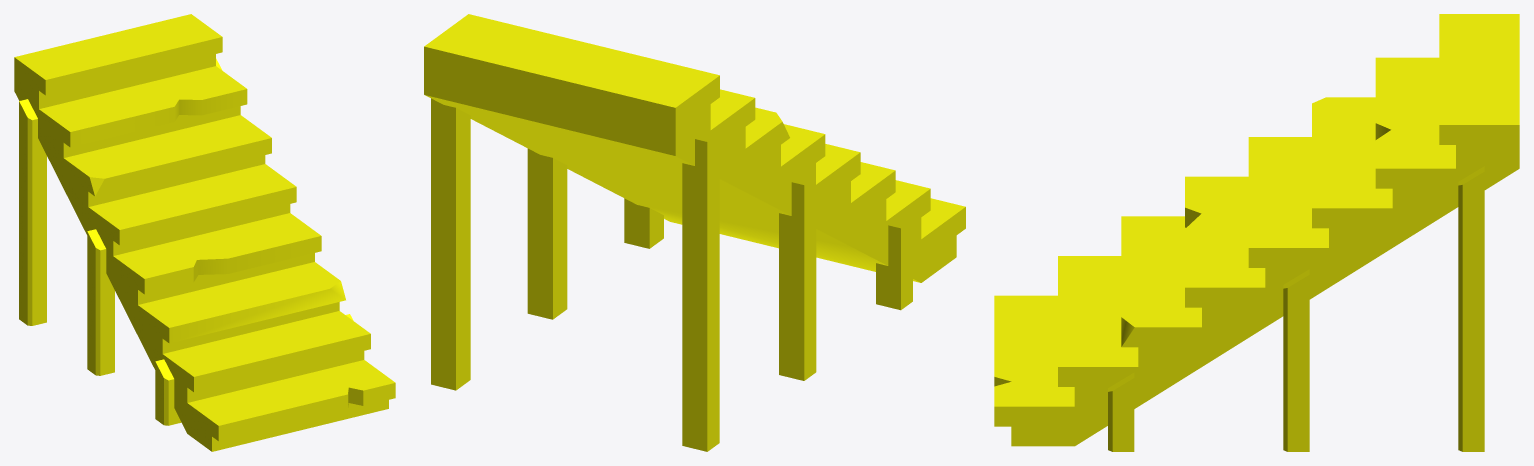
File: kaykit-stairs-wood.glb
3 renders of one model, left to right at view 1: azimuth 30°, elevation 25°; view 2: azimuth 150°, elevation 25°; view 3: azimuth 270°, elevation 25°, orthographic. The views are drawn at different scales.
Parts seen in each view (by area): view 1: stairs_wood; view 2: stairs_wood; view 3: stairs_wood.
Part boxes in pixels (x1,y1,x2,y2): stairs_wood: [14, 14, 395, 451]; stairs_wood: [424, 14, 965, 451]; stairs_wood: [994, 14, 1519, 451].
Bounding box in the file's own units: 3.3 × 4.05 × 6.
